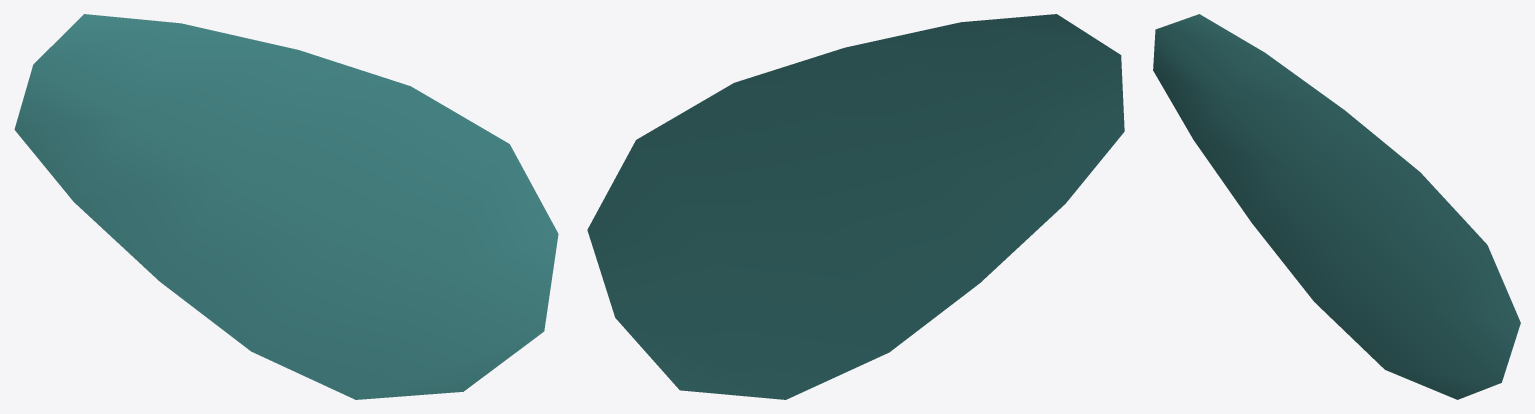
File: budgie_feather_flight_tertiary_028.obj
3 views of the same model, side by side, from view 1: azimuth 30°, elevation 25°; view 2: azimuth 150°, elevation 25°; view 3: azimuth 330°, elevation 25° (orthographic). The views are drawn at different scales.
Parts seen in each view (by area): view 1: feather_flight_tertiary_028; view 2: feather_flight_tertiary_028; view 3: feather_flight_tertiary_028.
Part boxes in pixels (left/top/right/bottom): feather_flight_tertiary_028: left=14, top=14, right=558, bottom=399; feather_flight_tertiary_028: left=587, top=14, right=1124, bottom=399; feather_flight_tertiary_028: left=1153, top=14, right=1520, bottom=399.
Size of the model in its own units: 0.0138 by 0.0114 by 0.000486.
